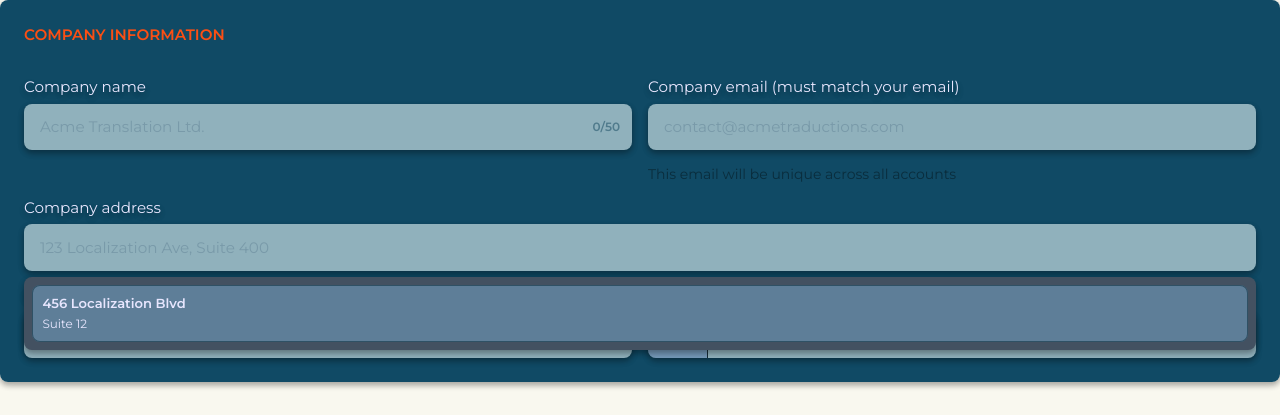
RegistrationCompanyStep - locked address field › locks the address after selecting a suggestion
Click the option "456 Localization Blvd Suite 12" at [114, 303], box x1=32 y1=285 x2=1248 y2=342
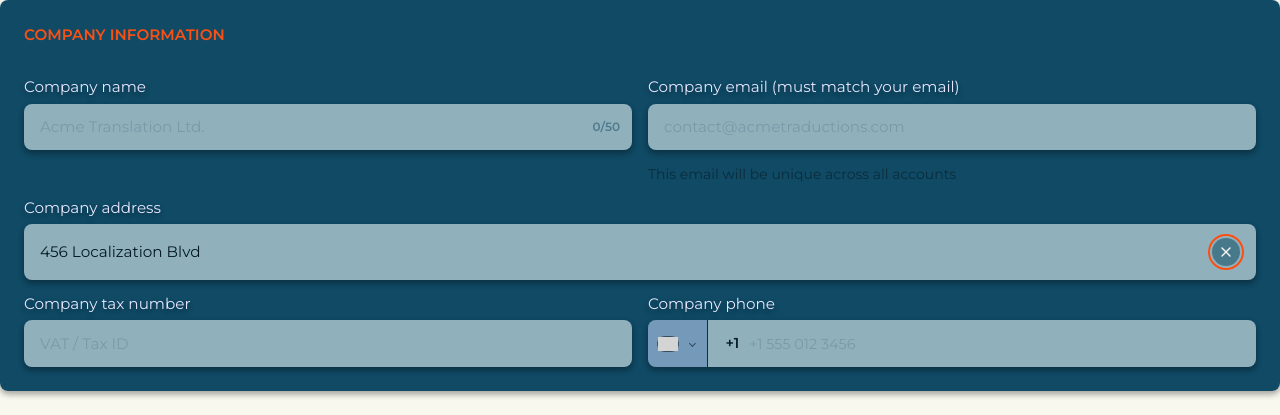
Expected: the field named "company address" reads "456 Localization Blvd", x1=40 y1=242 x2=200 y2=261
Expected: the button named "clear selected address" is shown, x1=1212 y1=238 x2=1240 y2=266
